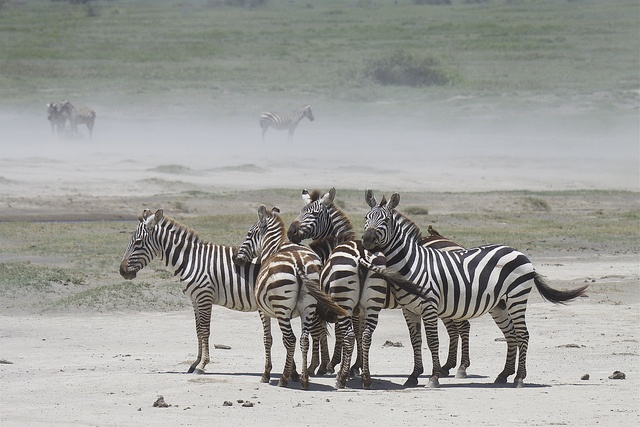zebra: (359, 189, 588, 390), (118, 206, 261, 372), (287, 186, 387, 390), (230, 204, 326, 386)
